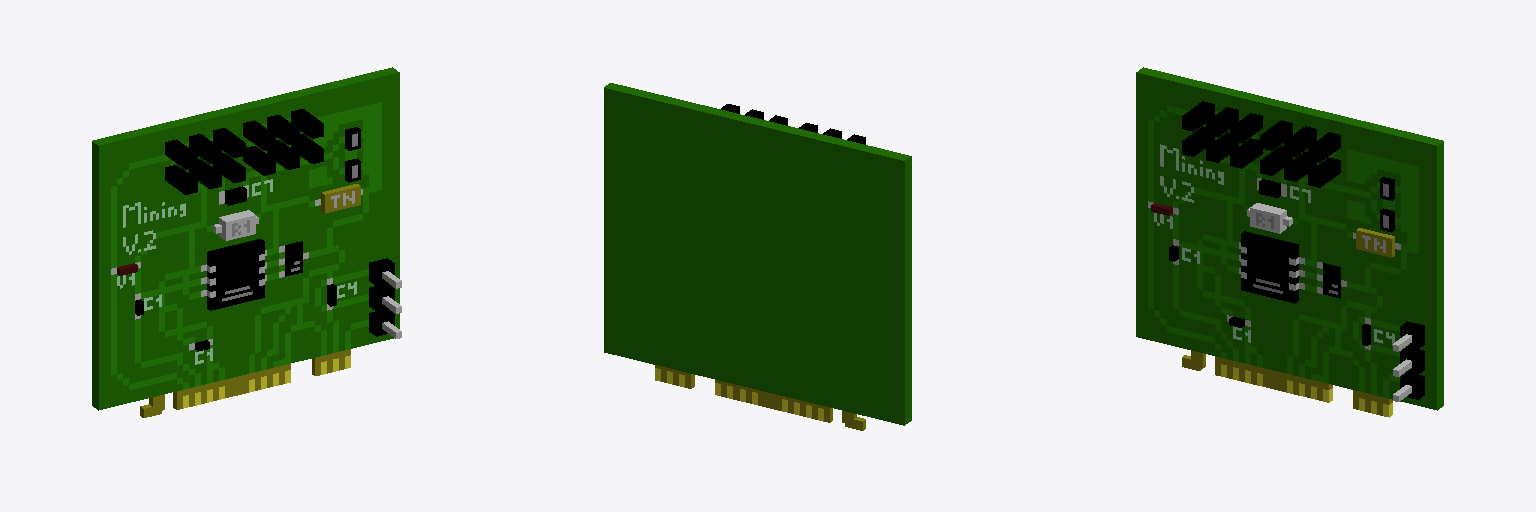
3 renders of one model, left to right at view 1: azimuth 30°, elevation 25°; view 2: azimuth 150°, elevation 25°; view 3: azimuth 330°, elevation 25°, orthographic.
Parts seen in each view (by area): view 1: mainPlate; view 2: mainPlate; view 3: mainPlate.
Boxes of the visible parts, <box> form: mainPlate: <box>92,67,401,417</box>; mainPlate: <box>604,83,911,430</box>; mainPlate: <box>1136,67,1443,417</box>.
Bounding box in the file's own units: 10 × 9 × 1.6.
1 materials, 1 textured.